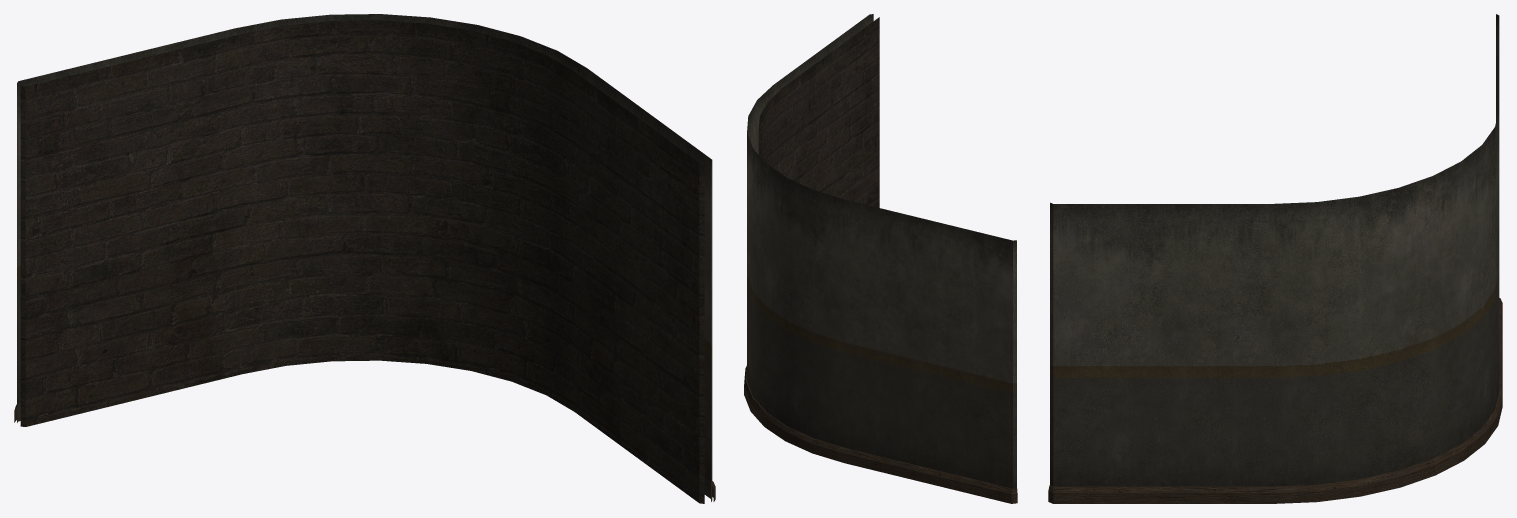
Rendered from wall_1_rounded_corner_1_1.obj.
3 renders of one model, left to right at view 1: azimuth 30°, elevation 25°; view 2: azimuth 150°, elevation 25°; view 3: azimuth 270°, elevation 25°, orthographic. The views are drawn at different scales.
Visible parts, largest first — view 1: wall_1_rounded_corner_1_1; view 2: wall_1_rounded_corner_1_1; view 3: wall_1_rounded_corner_1_1.
Boxes of the visible parts, <box> form: wall_1_rounded_corner_1_1: <box>14,14,715,503</box>; wall_1_rounded_corner_1_1: <box>744,14,1017,503</box>; wall_1_rounded_corner_1_1: <box>1048,14,1502,503</box>.
Bounding box in the file's own units: 4.13 × 3 × 4.13.
